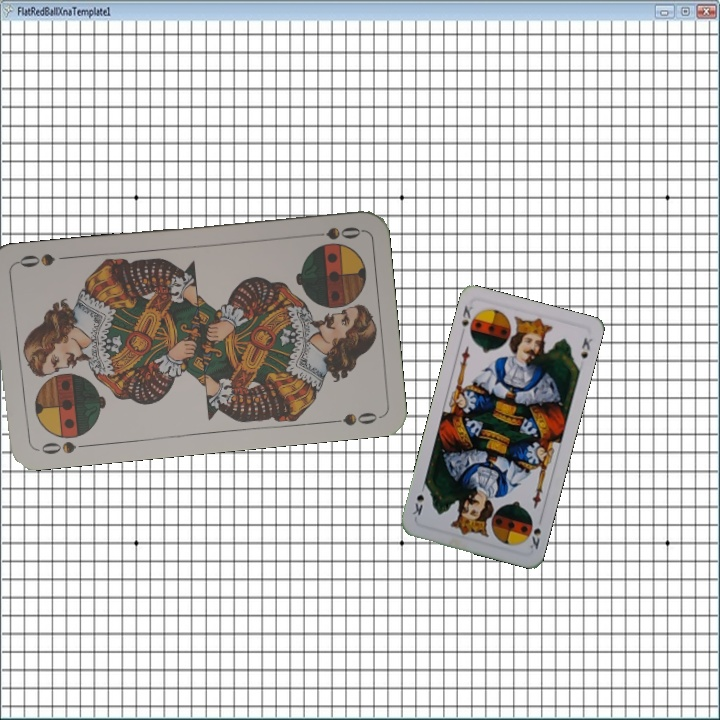SK: (457, 301, 479, 339), (525, 524, 544, 552)
SO: (33, 437, 92, 457), (304, 223, 363, 242)
